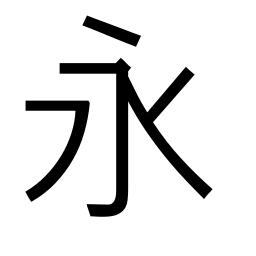D: (81, 13, 145, 48)
HSZ: (108, 56, 134, 87)
Hs: (58, 61, 95, 77)
Ne: (180, 169, 215, 201)
PNc: (132, 100, 161, 131)
PZe: (24, 180, 52, 203)
Ps: (171, 65, 196, 89)
SG: (83, 190, 130, 218)
Sm: (112, 131, 131, 165)
TPZ: (65, 96, 92, 138)
Ts: (23, 97, 53, 115)
